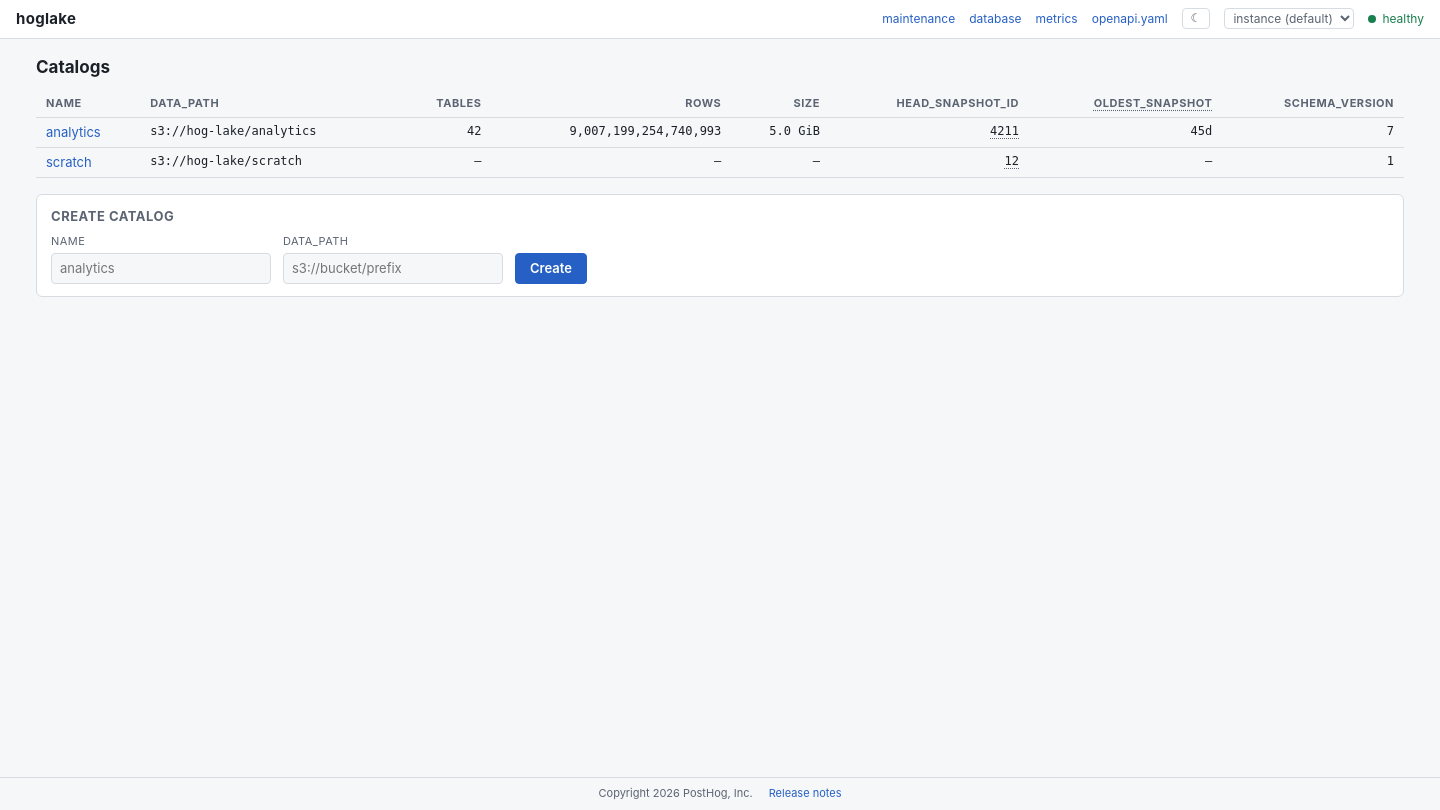
Test: snapshot id tooltips › dates head_snapshot_id on hover, and not before
Hover over the text "4211" at (1004, 132), box x1=990 y1=124 x2=1019 y2=139
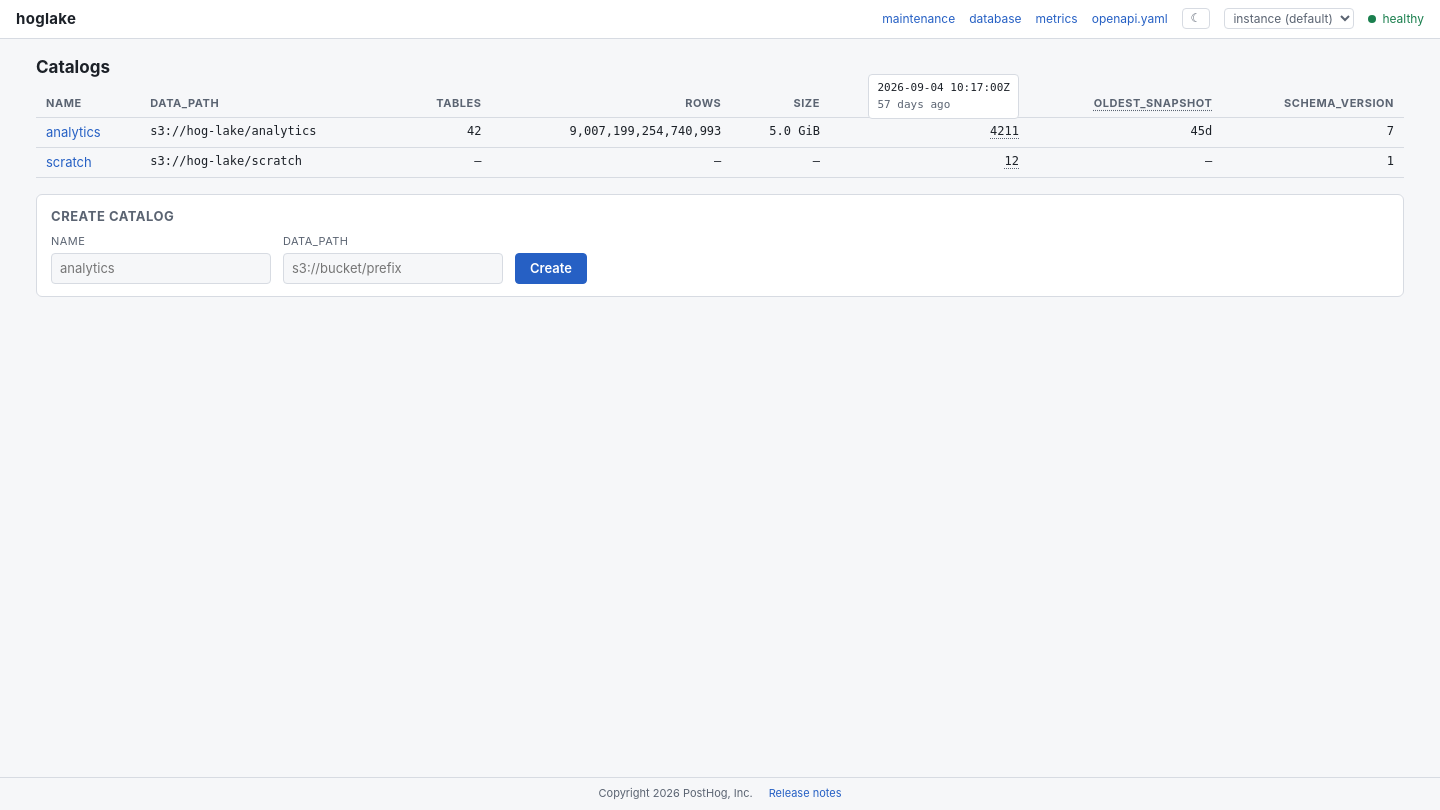
Result: the tooltip "2026-09-04 10:17:00Z" is shown at x1=878 y1=81 x2=1010 y2=94
